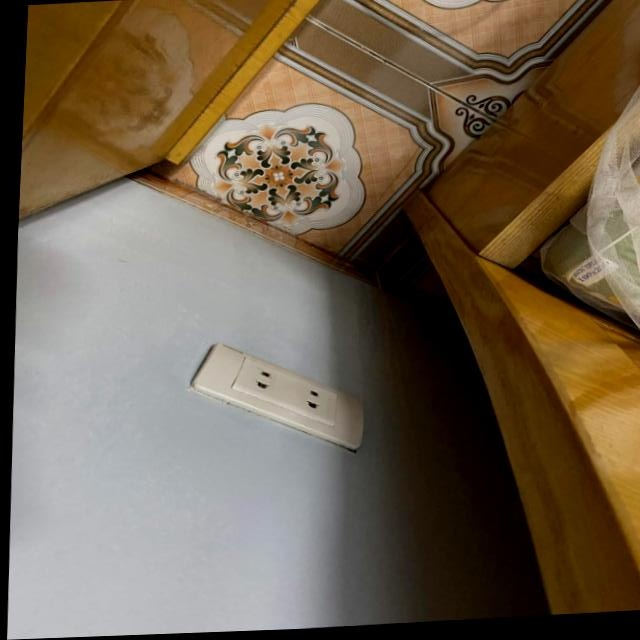outlet: (185, 335, 368, 462)
